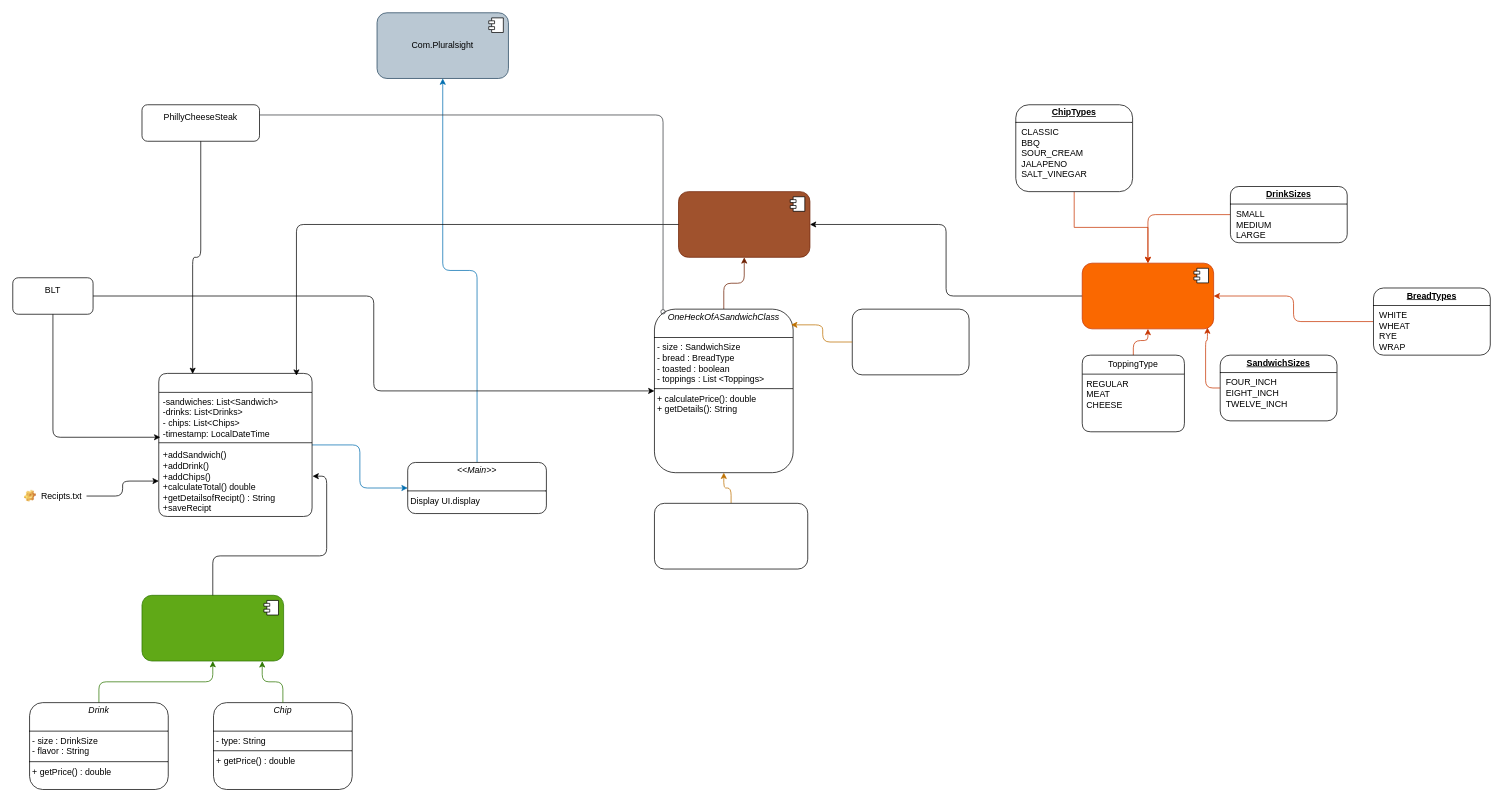
This 1503x802 diagram has some shape labels left out. Here are the shapes that lost their labels. From the top down, the box of each, then its label:
(678, 191, 810, 257): Com.Pluralsight.Heck_Sandwich
(1081, 262, 1214, 329): Com.Pluralsight.Sandwich_Emus
(852, 308, 969, 375): SandwichToppings - name : String - type : ToppingType - isExtra : boolean
(158, 373, 312, 516): OneHeckOfAUserInterface
(654, 503, 808, 569): <<Abstract>> Signature_Sandwich Inherits OneHeckOfASandwichClass
(141, 595, 284, 661): Com.Pluralsight.Heck_Sides
